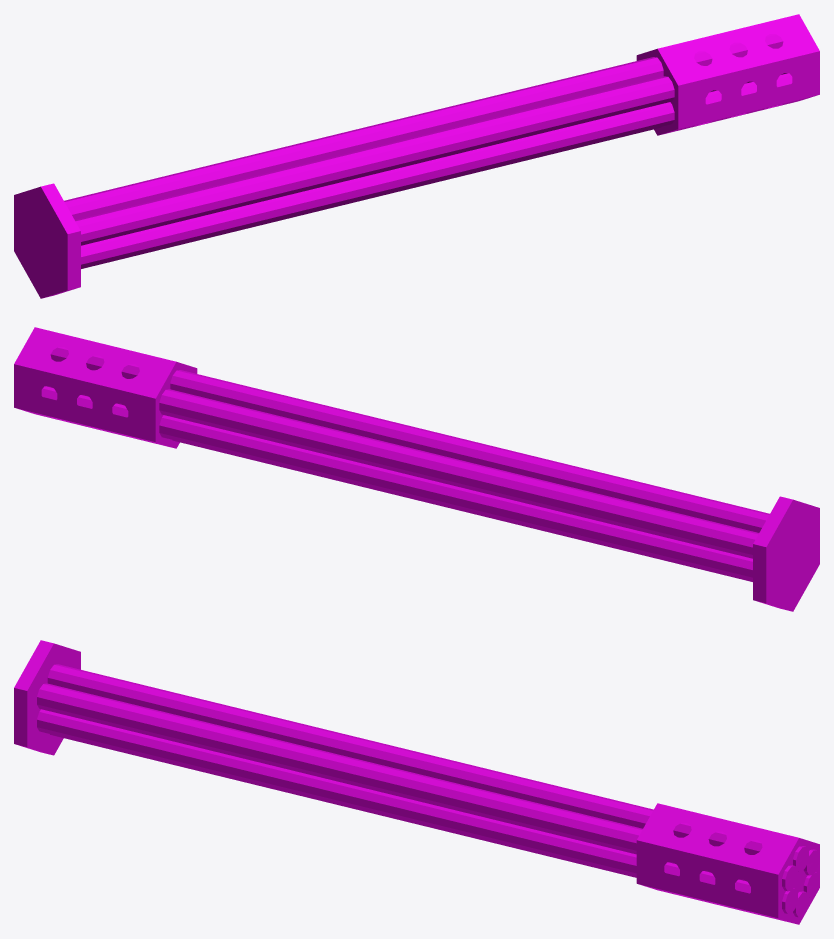
The model's file is Minigun.fbx.
3 renders of one model, top to bottom at view 1: azimuth 30°, elevation 25°; view 2: azimuth 150°, elevation 25°; view 3: azimuth 330°, elevation 25°, orthographic.
Parts seen in each view (by area): view 1: pCylinder13, pCylinder14, pCylinder8, polySurface1, pCylinder9, pCylinder12; view 2: pCylinder10, pCylinder11, pCylinder8, polySurface1, pCylinder9, pCylinder12; view 3: pCylinder13, pCylinder14, pCylinder8, polySurface1, pCylinder9, pCylinder12.
Part boxes in pixels (x1,y1,x2,y2): pCylinder13: (75,48,787,245); pCylinder14: (81,73,792,268); pCylinder8: (64,34,783,219); polySurface1: (636,14,819,135); pCylinder9: (14,183,80,298); pCylinder12: (81,127,661,268); pCylinder10: (46,361,758,558); pCylinder11: (41,386,752,581); pCylinder8: (50,347,769,532); polySurface1: (14,327,197,448); pCylinder9: (753,496,819,611); pCylinder12: (172,440,752,581); pCylinder13: (37,683,797,891); pCylinder14: (37,709,797,913); pCylinder8: (47,664,808,871); polySurface1: (636,803,819,924); pCylinder9: (14,640,80,755); pCylinder12: (50,734,808,917).
Bounding box in the file's own units: 0.4577 × 0.0644 × 0.0558.
